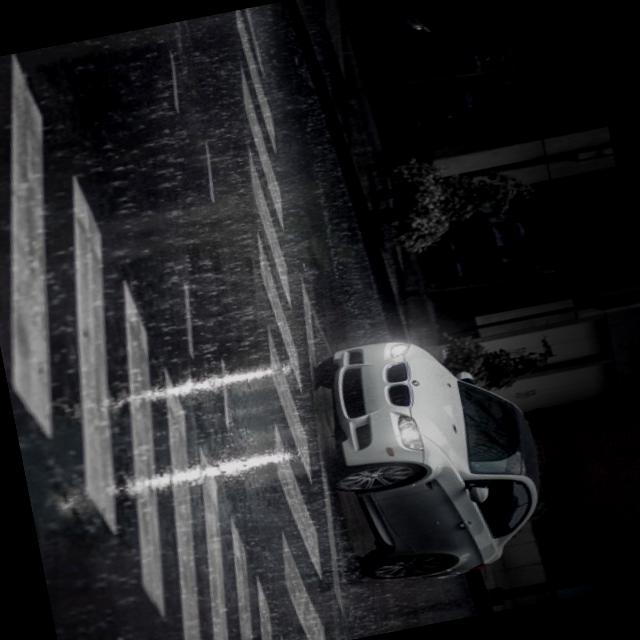Car: (300, 312, 570, 601)
